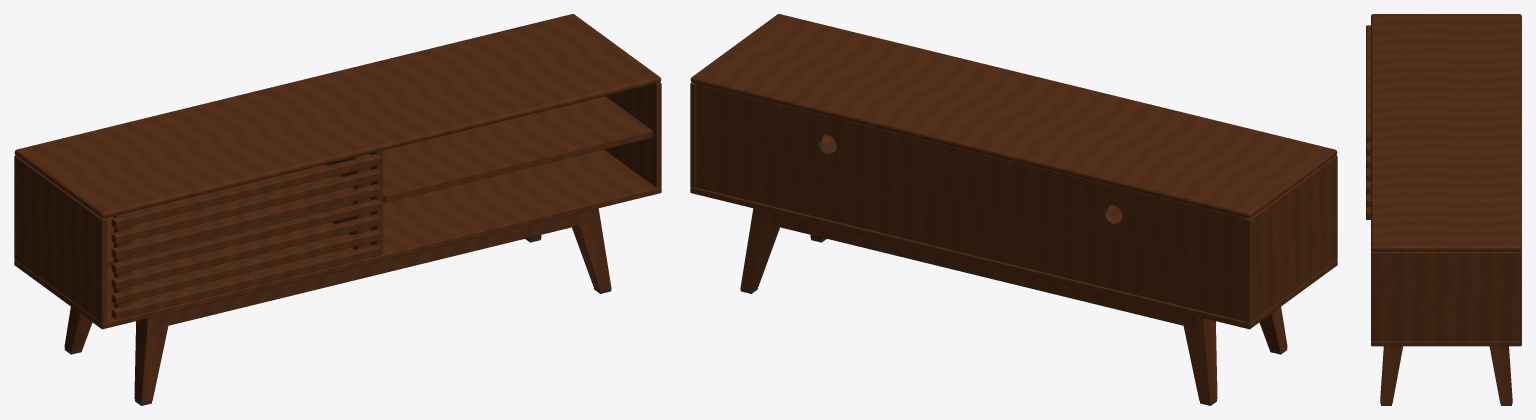
File: modway-render-tv-stand.glb
3 views of the same model, side by side, from view 1: azimuth 30°, elevation 25°; view 2: azimuth 150°, elevation 25°; view 3: azimuth 270°, elevation 25° (orthographic). The views are drawn at different scales.
Visible parts, largest first — view 1: Rounded walnut top, Walnut bottom slab, Right open media shelf, Walnut end panel, Under-cabinet front apron, Horizontal slatted door rail 06, Horizontal slatted door rail 00, Horizontal slatted door rail 03, Horizontal slatted door rail 01, Horizontal slatted door rail 02, Horizontal slatted door rail 04, Horizontal slatted door rail 05 (+6 smaller); view 2: Back panel with cable cutouts, Rounded walnut top, Walnut end panel, Under-cabinet rear apron, Walnut bottom slab, Splayed tapered walnut foot.001, Splayed tapered walnut foot.003, Splayed tapered walnut foot, Walnut end panel.001; view 3: Rounded walnut top, Walnut end panel.001, Splayed tapered walnut foot.003, Splayed tapered walnut foot.002, Walnut bottom slab, Horizontal slatted door rail 06.
Boxes of the visible parts, bbox=[...] form: Rounded walnut top: bbox=[14, 14, 661, 218]; Walnut bottom slab: bbox=[14, 149, 661, 329]; Right open media shelf: bbox=[383, 96, 652, 202]; Walnut end panel: bbox=[14, 155, 107, 323]; Under-cabinet front apron: bbox=[153, 209, 593, 327]; Horizontal slatted door rail 06: bbox=[111, 154, 380, 229]; Horizontal slatted door rail 00: bbox=[111, 244, 380, 319]; Horizontal slatted door rail 03: bbox=[111, 199, 380, 274]; Horizontal slatted door rail 01: bbox=[111, 229, 380, 304]; Horizontal slatted door rail 02: bbox=[111, 214, 380, 289]; Horizontal slatted door rail 04: bbox=[111, 184, 380, 259]; Horizontal slatted door rail 05: bbox=[111, 169, 380, 244]; Back panel with cable cutouts: bbox=[696, 84, 1244, 321]; Rounded walnut top: bbox=[690, 14, 1337, 218]; Walnut end panel: bbox=[1244, 155, 1337, 323]; Under-cabinet rear apron: bbox=[758, 209, 1198, 327]; Walnut bottom slab: bbox=[690, 187, 1337, 329]; Splayed tapered walnut foot.001: bbox=[1183, 317, 1217, 403]; Splayed tapered walnut foot.003: bbox=[740, 208, 779, 291]; Splayed tapered walnut foot: bbox=[1259, 307, 1287, 352]; Walnut end panel.001: bbox=[690, 82, 696, 187]; Rounded walnut top: bbox=[1371, 14, 1521, 251]; Walnut end panel.001: bbox=[1371, 250, 1521, 340]; Splayed tapered walnut foot.003: bbox=[1489, 346, 1512, 403]; Splayed tapered walnut foot.002: bbox=[1380, 346, 1402, 403]; Walnut bottom slab: bbox=[1371, 250, 1521, 346]; Horizontal slatted door rail 06: bbox=[1366, 25, 1370, 142].
Size of the model in its own units: 1.22 by 0.4318 by 0.3429.
Materials: 3 (1 with a texture image).
